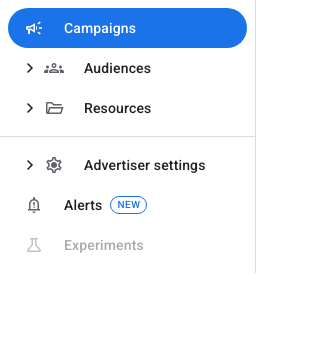
Test case: DvNav › groups expand and collapse with aria-expanded; children have no icons
The image size is (320, 362).
Expected: the link "All audiences" is not shown
Click the button "Audiences" at (85, 68), box [18,56,151,80]
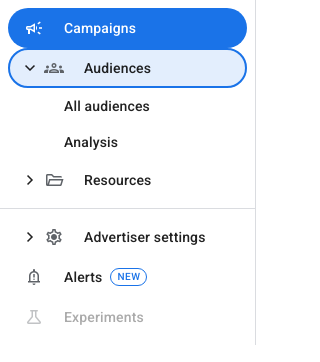
Expected: the button "Audiences" is expanded
Click the button "Audiences" at (128, 68), box [8,48,247,88]
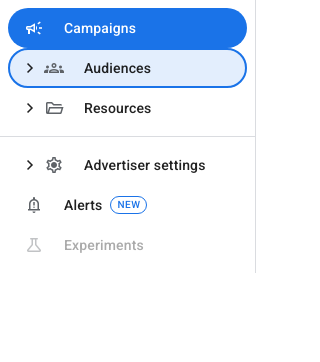
Expected: the link "All audiences" is gone
